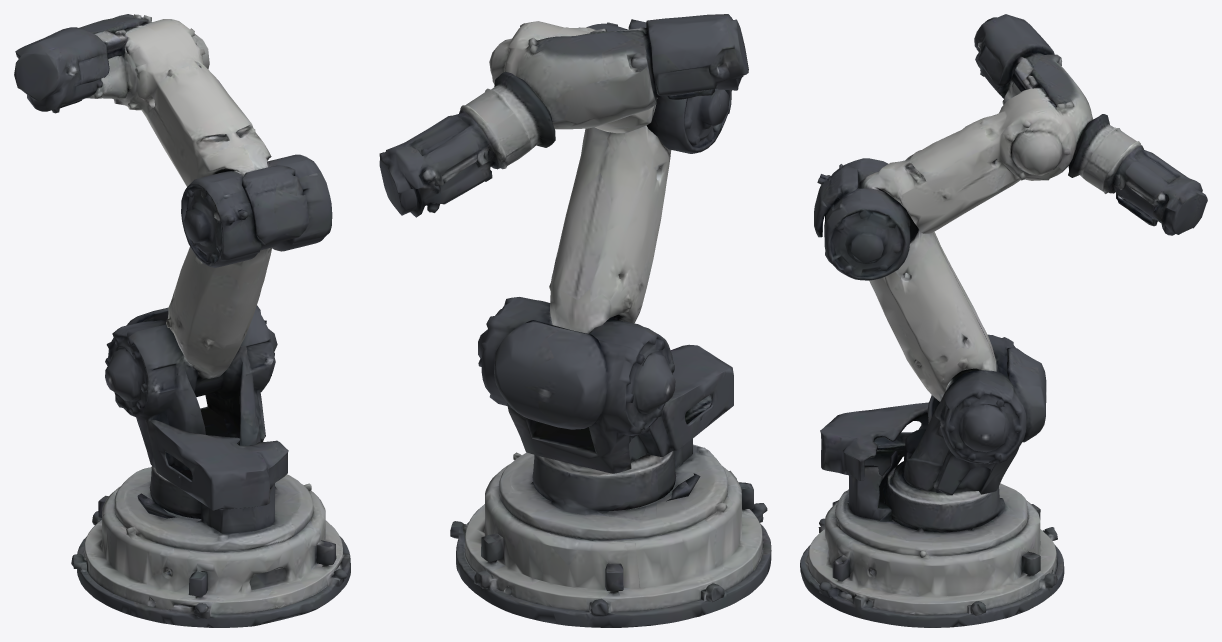
File: arm.glb
The picture shows the model from 3 angles, left to right: view 1: azimuth 30°, elevation 25°; view 2: azimuth 150°, elevation 25°; view 3: azimuth 270°, elevation 25°; orthographic projection. The views are drawn at different scales.
Visible parts, largest first — view 1: tripo_node_b0fa8fec-7160-46d4-abdf-eb7eb2f45a13; view 2: tripo_node_b0fa8fec-7160-46d4-abdf-eb7eb2f45a13; view 3: tripo_node_b0fa8fec-7160-46d4-abdf-eb7eb2f45a13.
Boxes of the visible parts, <box> form: tripo_node_b0fa8fec-7160-46d4-abdf-eb7eb2f45a13: <box>14,14,350,627</box>; tripo_node_b0fa8fec-7160-46d4-abdf-eb7eb2f45a13: <box>379,14,771,627</box>; tripo_node_b0fa8fec-7160-46d4-abdf-eb7eb2f45a13: <box>800,14,1207,627</box>.
Bounding box in the file's own units: 0.5422 × 1 × 0.7425.
1 material, 1 textured.
